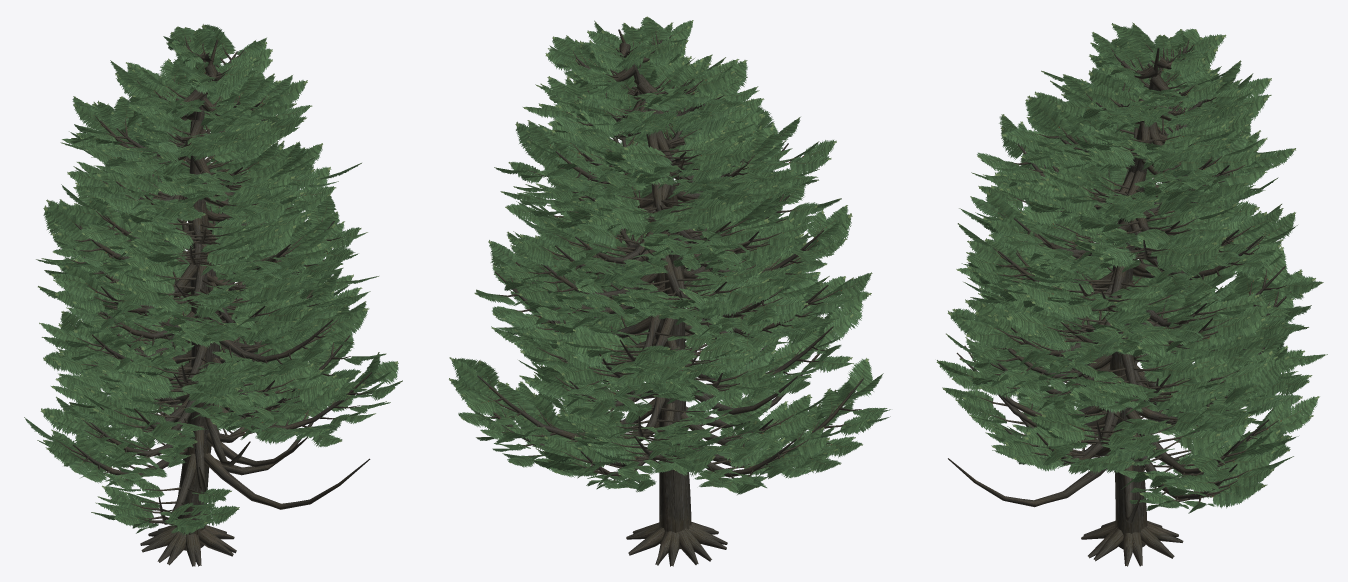
The model's file is MountainPines.glb.
The picture shows the model from 3 angles, left to right: view 1: azimuth 30°, elevation 25°; view 2: azimuth 150°, elevation 25°; view 3: azimuth 270°, elevation 25°; orthographic projection. The views are drawn at different scales.
Visible parts, largest first — view 1: RidgePine, WindPine; view 2: WindPine, RidgePine; view 3: WindPine, RidgePine.
Boxes of the visible parts, x1,y1,x2,y2 form: RidgePine: (24, 24, 402, 566); WindPine: (36, 68, 386, 566); WindPine: (449, 60, 890, 565); RidgePine: (454, 16, 872, 566); WindPine: (936, 42, 1327, 566); RidgePine: (946, 22, 1312, 566).
Size of the model in its own units: 8.72 by 11.58 by 8.09.
Materials: 2 (2 with a texture image).
